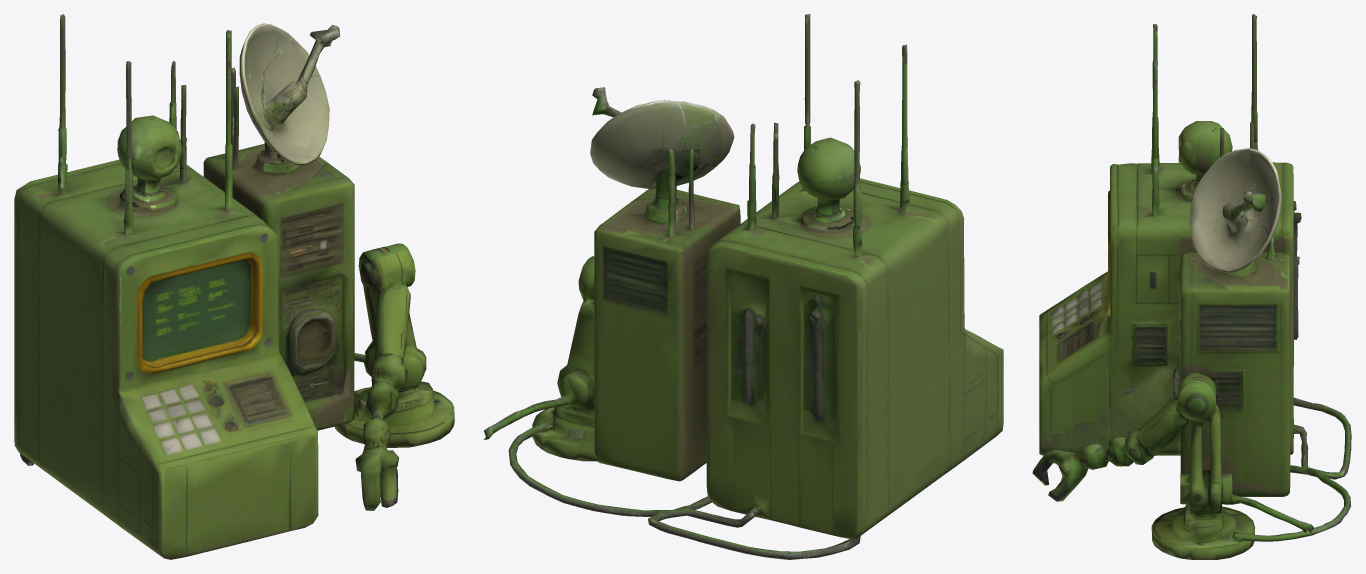
The model's file is Robotic_Control_Stati_0404141433_texture.glb.
3 views of the same model, side by side, from view 1: azimuth 30°, elevation 25°; view 2: azimuth 150°, elevation 25°; view 3: azimuth 270°, elevation 25° (orthographic). The views are drawn at different scales.
Size of the model in its own units: 1.73 by 1.99 by 1.45.
Materials: 1 (1 with a texture image).
